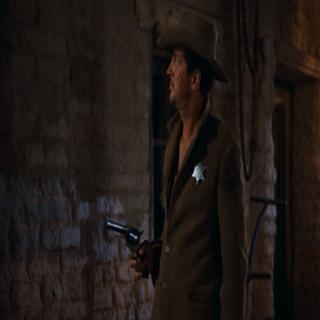gun: (104, 216, 149, 278)
